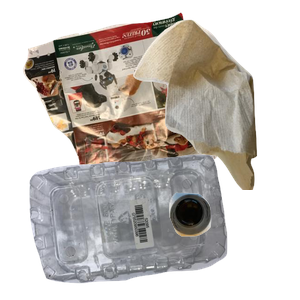glass: (166, 190, 300, 300)
paper: (20, 10, 231, 190)
plastic: (27, 152, 247, 300)
trash: (131, 17, 300, 197)
